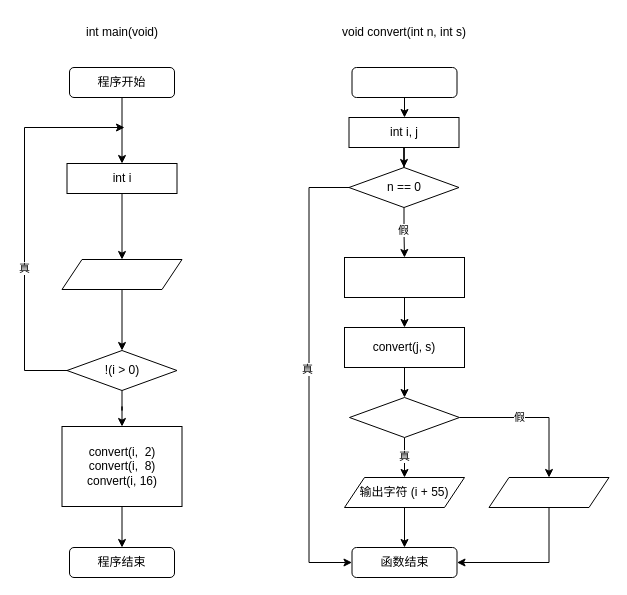
Image size: 627x595. Some labels were removed from this diagram. Here are the shapes that lost their labels. From the top down, the box of each, then its label:
(351, 66, 457, 98): 函数开始
(61, 258, 182, 290): 输入 i
(344, 256, 464, 298): i = n % s j = n / s
(348, 396, 460, 438): i >= 10
(488, 476, 609, 508): 输出数字 i
